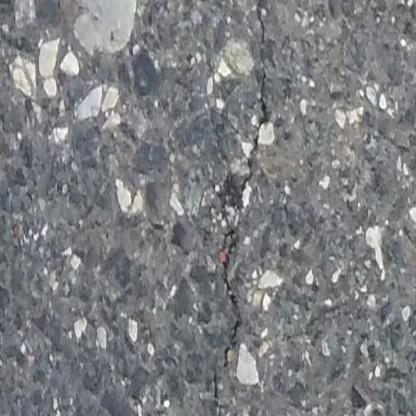Cracks: (204, 0, 277, 416), (386, 0, 416, 14)
